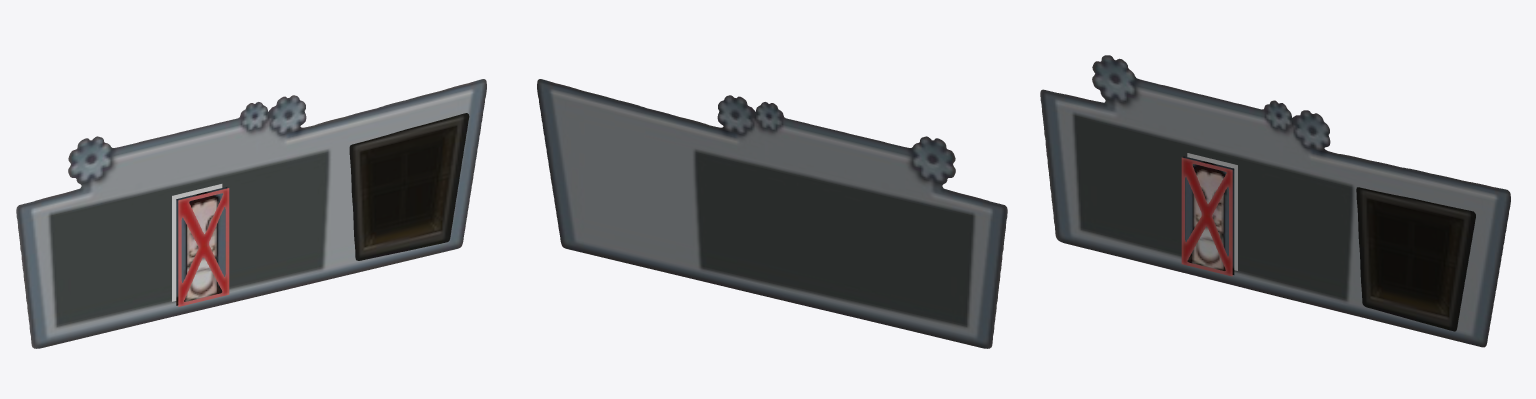
File: field_boss_gui.glb
3 renders of one model, left to right at view 1: azimuth 30°, elevation 25°; view 2: azimuth 150°, elevation 25°; view 3: azimuth 330°, elevation 25°, orthographic.
Visible parts, largest first — view 1: frame, doorOpen, bossIcon, bossIconX, bossBackground; view 2: frame; view 3: frame, doorOpen, bossIcon, bossIconX, bossBackground.
Part boxes in pixels (x1,y1,x2,y2): frame: [16, 79, 486, 348]; doorOpen: [349, 113, 469, 260]; bossIcon: [176, 187, 227, 305]; bossIconX: [178, 188, 229, 306]; bossBackground: [172, 184, 222, 301]; frame: [537, 79, 1007, 348]; frame: [1040, 55, 1510, 347]; doorOpen: [1356, 187, 1475, 331]; bossIcon: [1183, 156, 1234, 274]; bossIconX: [1181, 157, 1232, 276]; bossBackground: [1187, 153, 1237, 270].
Bounding box in the file's own units: 1.06 × 0.5325 × 0.0394.
Materials: 3 (2 with a texture image).
